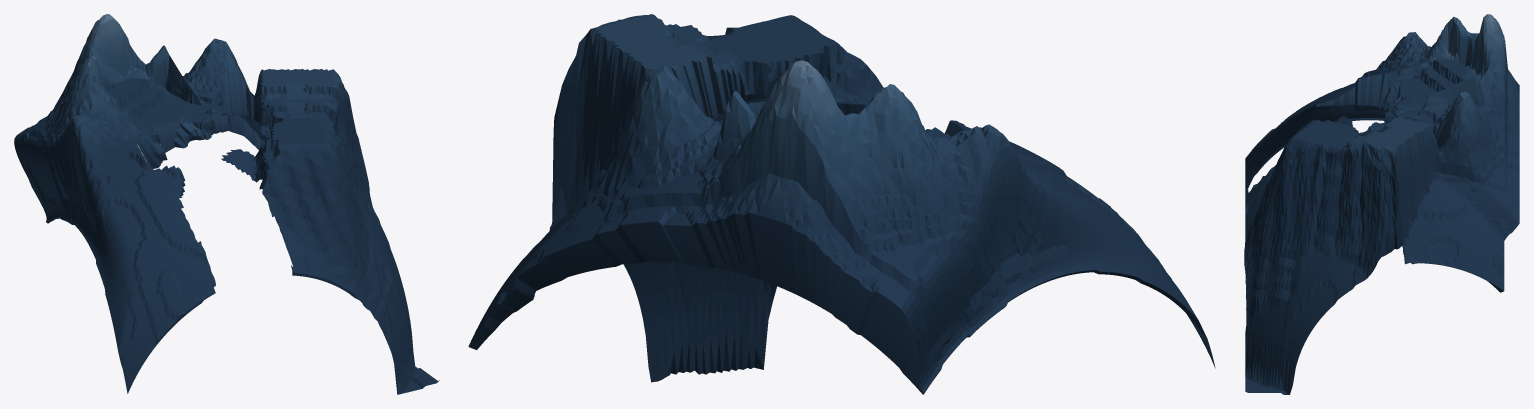
The model's file is citadel-master-terrain-r06.glb.
3 renders of one model, left to right at view 1: azimuth 30°, elevation 25°; view 2: azimuth 150°, elevation 25°; view 3: azimuth 270°, elevation 25°, orthographic. The views are drawn at different scales.
Visible parts, largest first — view 1: citadel-oskar-grid-mountain-surface, citadel-coastal-cliff-seal; view 2: citadel-oskar-grid-mountain-surface, citadel-coastal-cliff-seal; view 3: citadel-oskar-grid-mountain-surface, citadel-coastal-cliff-seal.
Boxes of the visible parts, box(x1,y1,x2,y2) form: citadel-oskar-grid-mountain-surface: box(14, 14, 439, 394); citadel-coastal-cliff-seal: box(134, 55, 274, 197); citadel-oskar-grid-mountain-surface: box(468, 14, 1215, 394); citadel-coastal-cliff-seal: box(668, 56, 964, 136); citadel-oskar-grid-mountain-surface: box(1244, 14, 1519, 394); citadel-coastal-cliff-seal: box(1316, 73, 1454, 148).
Size of the model in its own units: 222 by 216 by 185.
